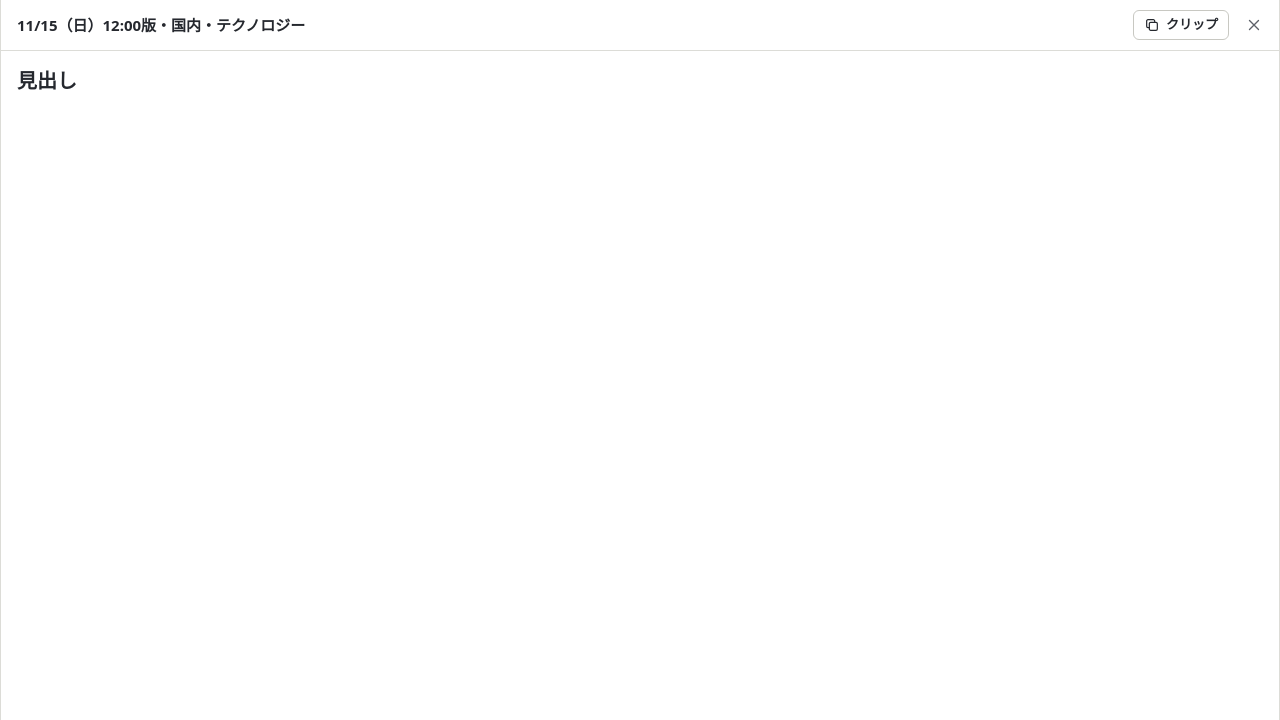
出し方（設計: 段階2の 1.4） › 差し込み口の中に出し、重ねた列の一覧だけを inert にする。閉じると戻し、前から inert の物はそのまま
The width and height of the screenshot is (1280, 720).
Expected: the heading "見出し" is shown, [17,67,77,94]
Click the button with test id "topic-close" at (1254, 25), box [1237,8,1271,42]
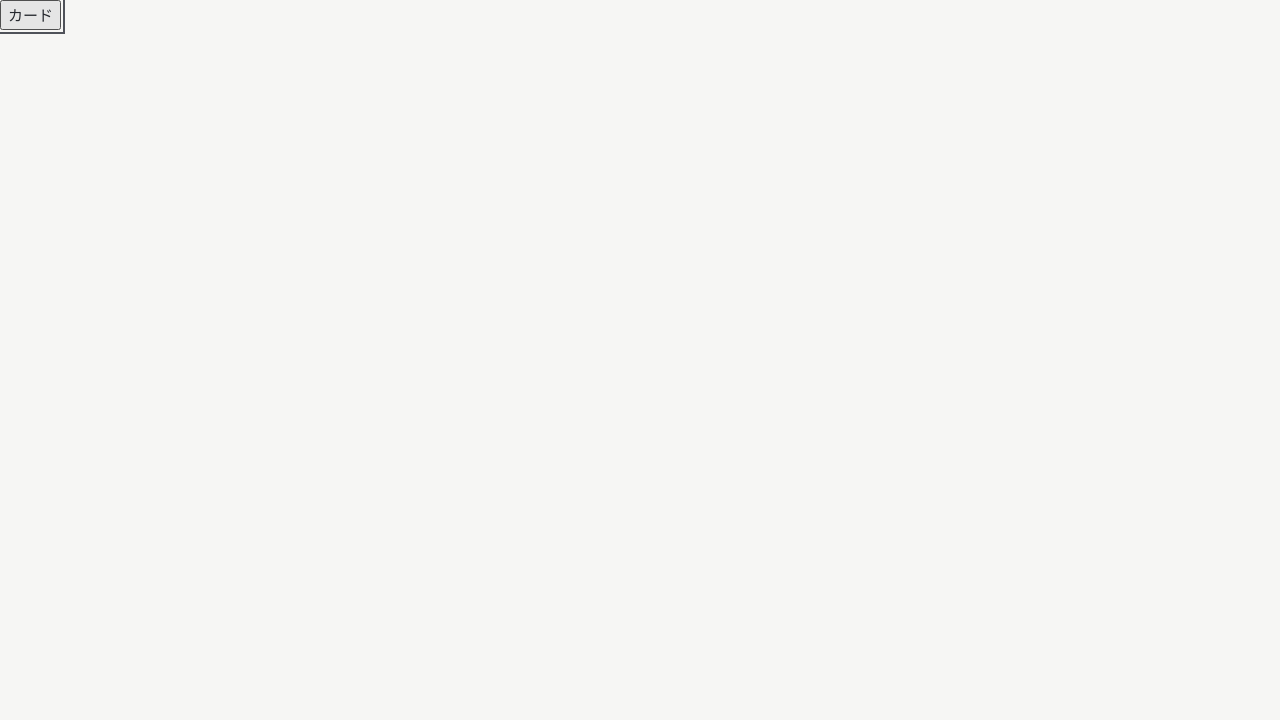
Expected: the element with class "topic-panel" is gone
